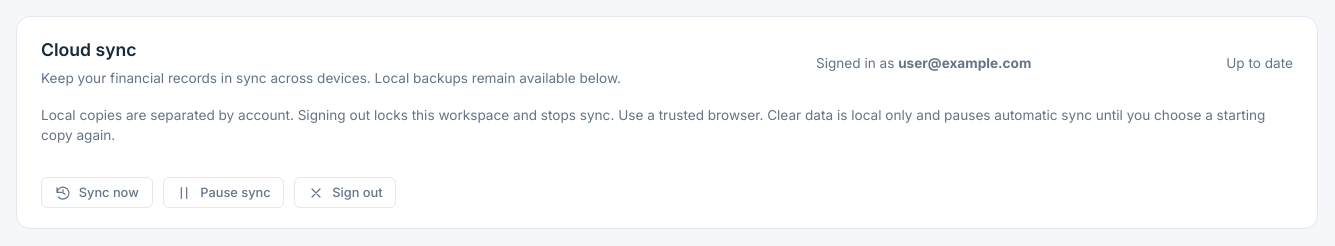
shows syncing progress and restores the button after a failed request
The width and height of the screenshot is (1335, 246).
Later steps or results of the test are not shown.
Expected: the text "Up to date" is shown, [1226,53,1293,73]
Click the button "Sync now".
click(97, 193)  # box [41,177,152,208]
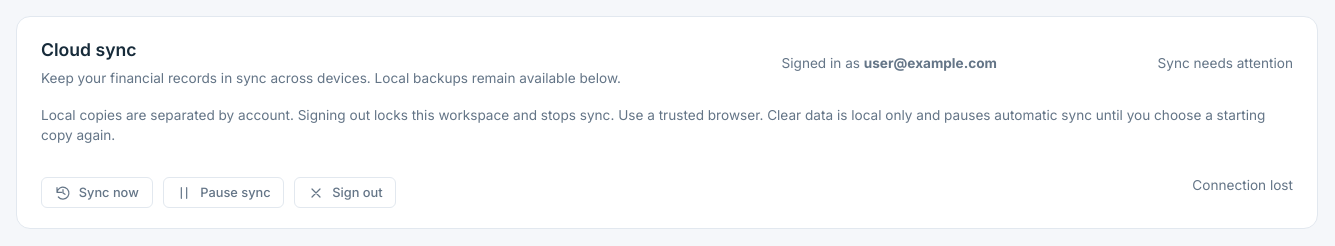
Result: the message "Connection lost" is shown at [1192,174,1293,195]
